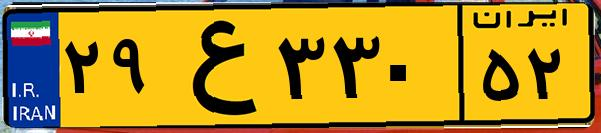0: (385, 28, 445, 110)
2: (57, 26, 110, 100), (525, 38, 570, 115)
3: (270, 28, 330, 110), (330, 28, 385, 110)
5: (475, 38, 525, 113)
9: (110, 28, 158, 98)
ع: (158, 12, 270, 120)
